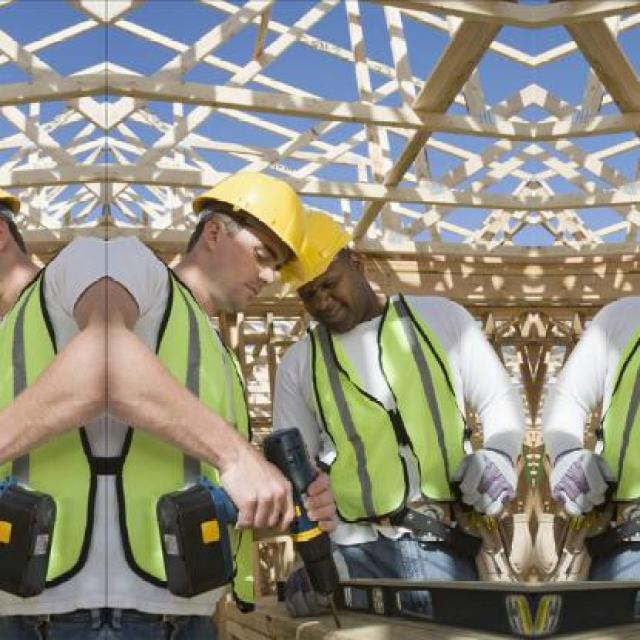helmet: (184, 169, 306, 305), (281, 212, 371, 330), (0, 169, 29, 306)
